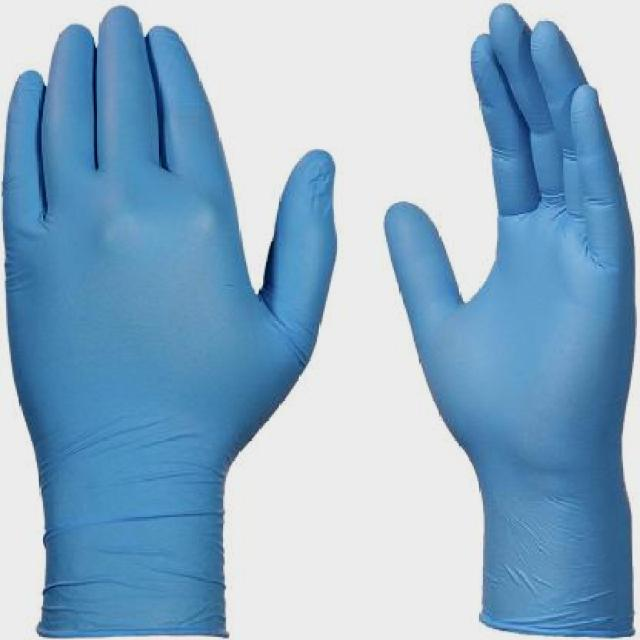glove: (1, 7, 339, 639), (385, 0, 638, 637)
